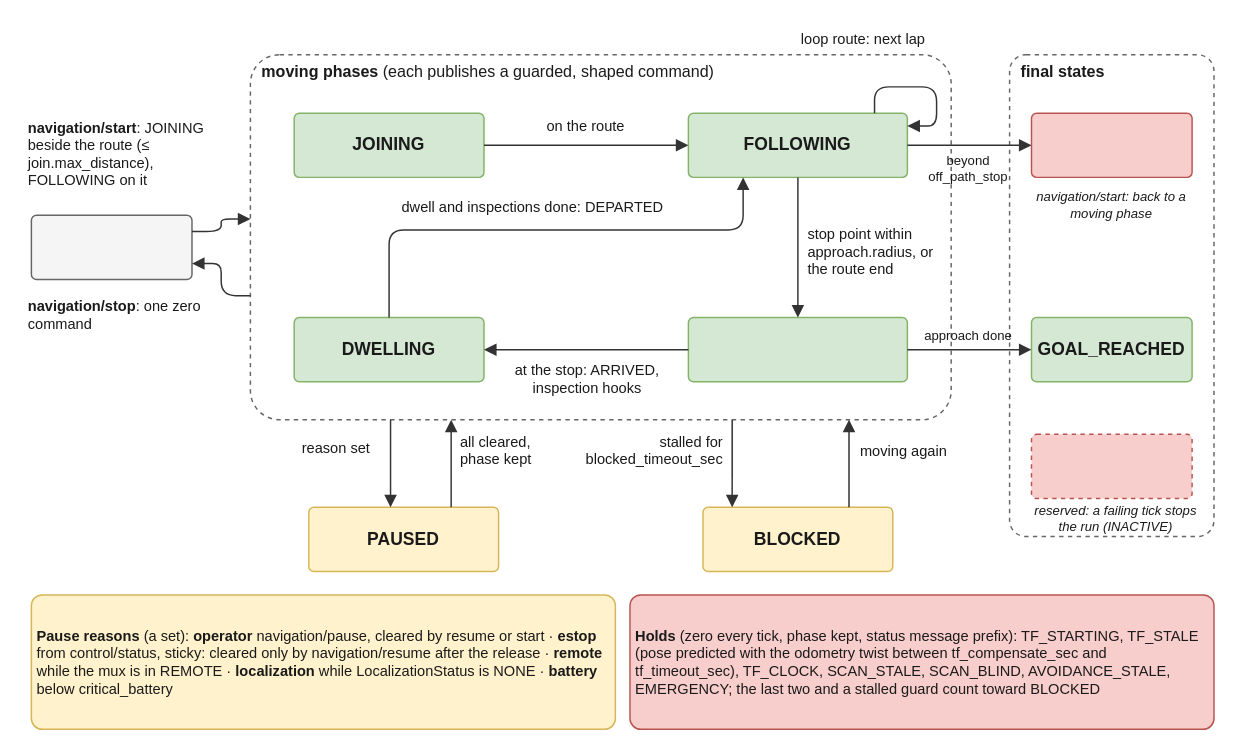
Some shapes in this 1240 by 755 pixel diagram are drawn without their labels. The shapes that lost their labels are listed below. From the top down, each one's centre as x and y in pixels, then its label:
At point (1111, 144): "OFF_PATH".
At point (111, 247): "INACTIVE".
At point (797, 349): "APPROACHING".
At point (1111, 466): "FAILED".
